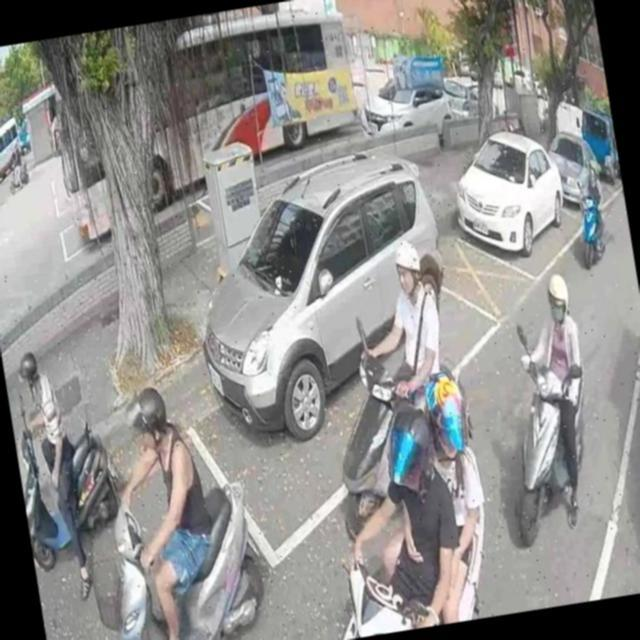person: (352, 358, 504, 632), (315, 394, 467, 640), (98, 375, 231, 640), (503, 270, 607, 526), (9, 340, 97, 600), (344, 235, 454, 413), (572, 163, 612, 259), (8, 144, 27, 189)
